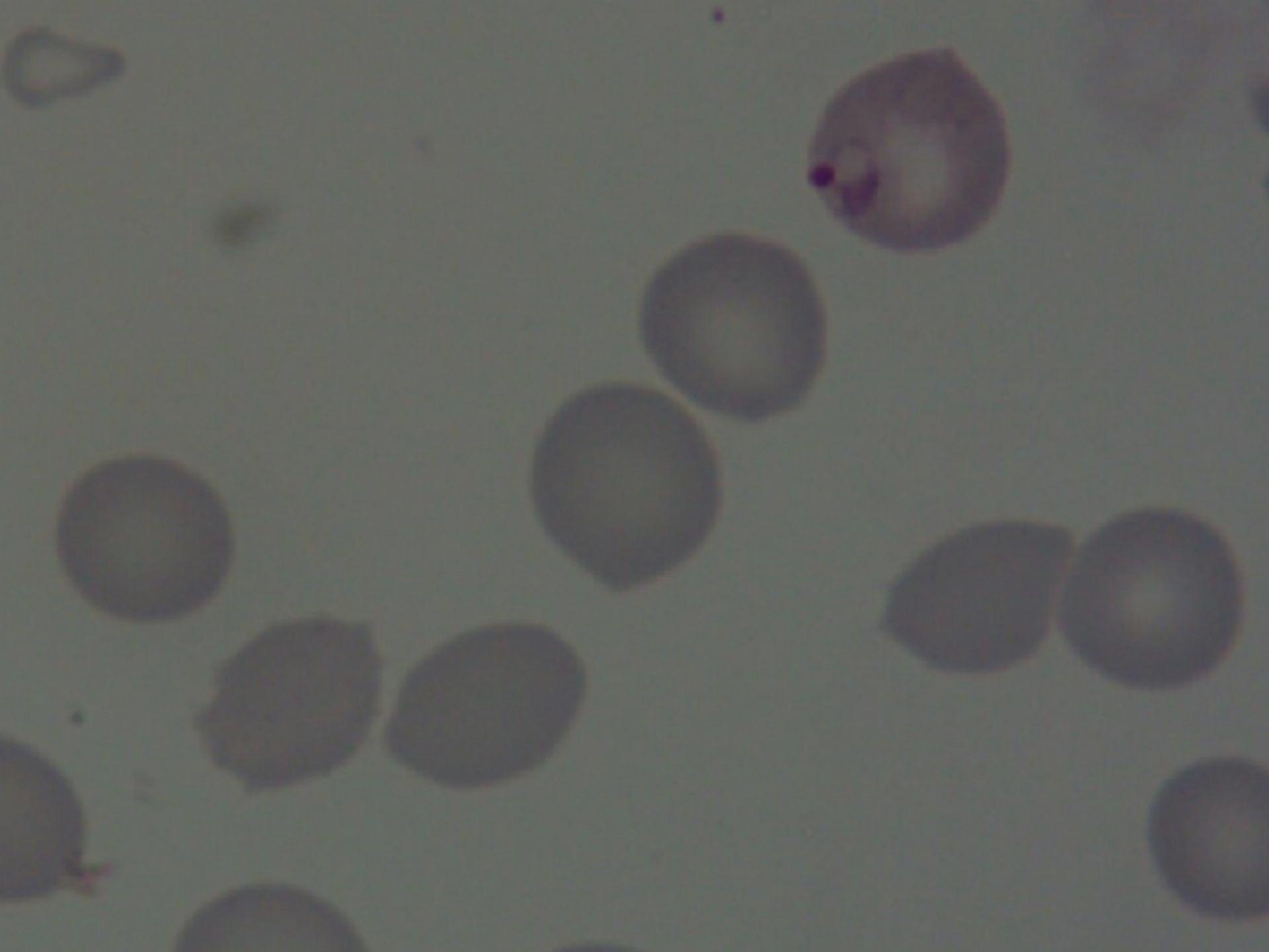Infected: (258, 697, 460, 900)
Uninfected: (547, 362, 739, 571), (443, 532, 636, 714), (677, 161, 883, 327), (25, 266, 212, 442), (198, 274, 391, 435), (886, 165, 1071, 332), (1031, 332, 1206, 497), (0, 28, 123, 193)
